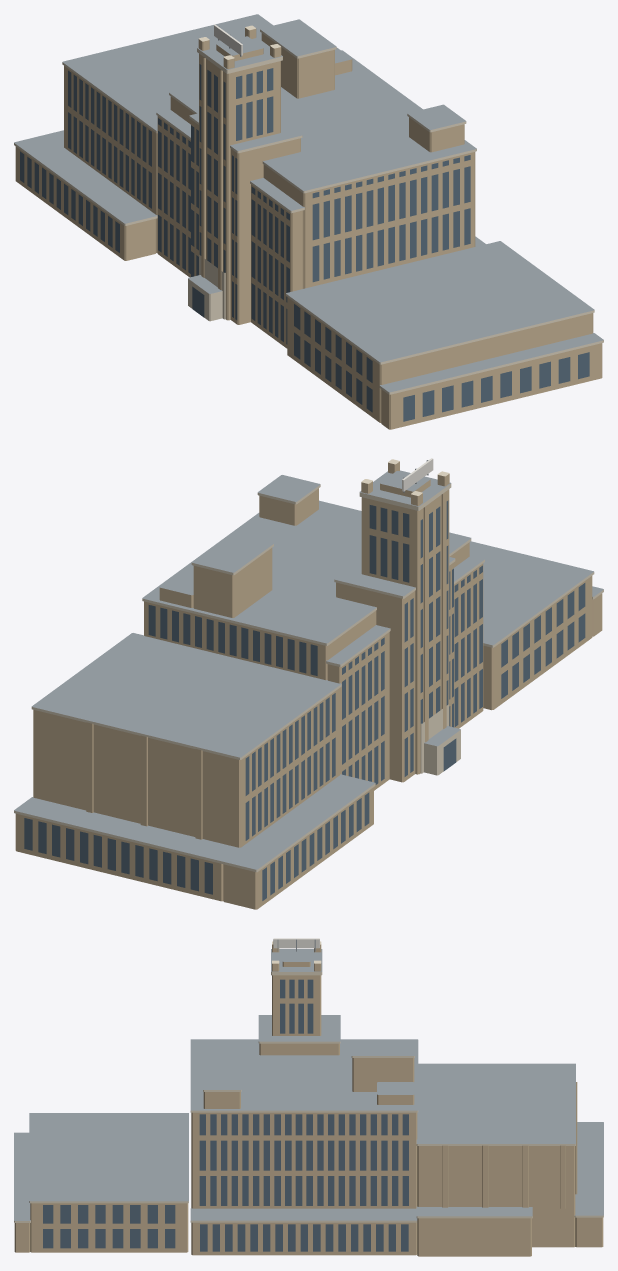
File: msp-midtown-exchange.glb
The picture shows the model from 3 angles, top to bottom: view 1: azimuth 30°, elevation 25°; view 2: azimuth 150°, elevation 25°; view 3: azimuth 270°, elevation 25°; orthographic projection. The views are drawn at different scales.
Visible parts, largest first — view 1: msp-midtown-exchange; view 2: msp-midtown-exchange; view 3: msp-midtown-exchange.
Part boxes in pixels (x1,y1,x2,y2): msp-midtown-exchange: [14, 14, 603, 429]; msp-midtown-exchange: [14, 458, 603, 909]; msp-midtown-exchange: [14, 938, 603, 1256].
Bounding box in the file's own units: 78.5 × 81.4 × 190.
